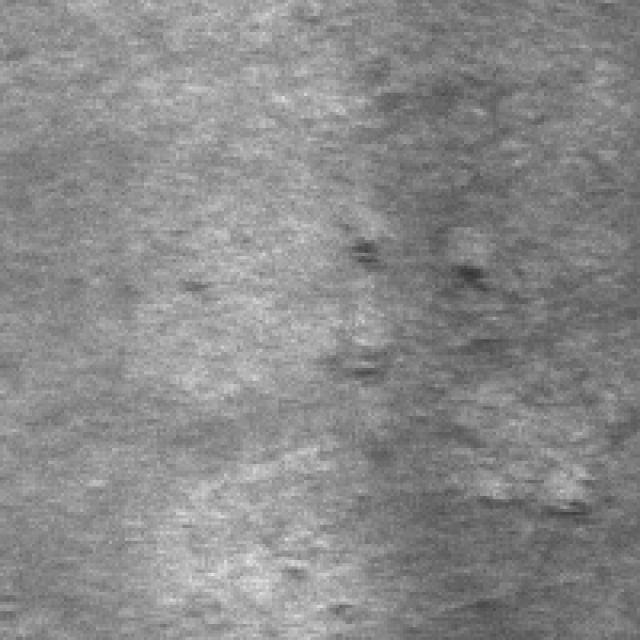rolled-in_scale: (336, 224, 627, 534)
